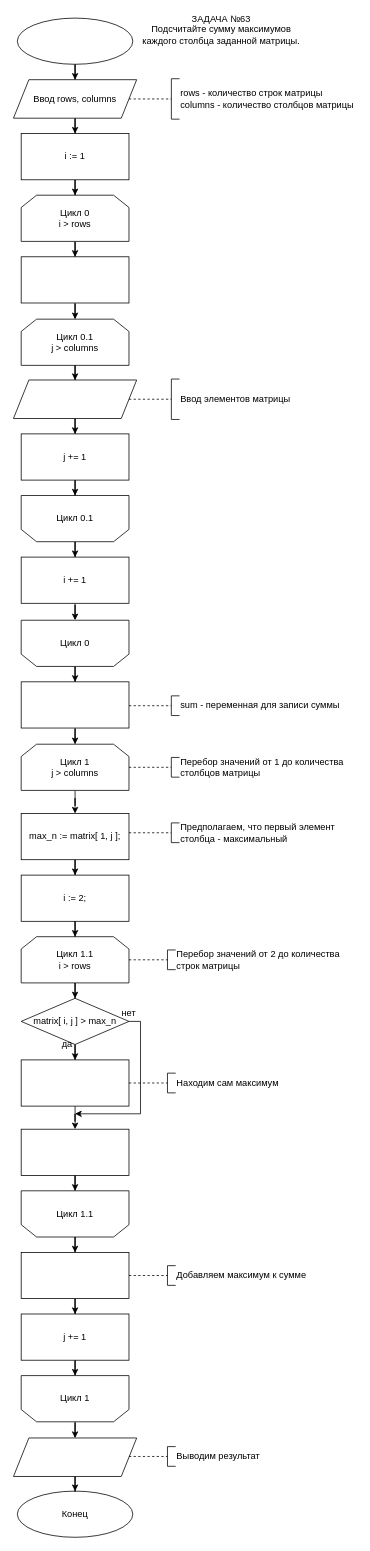
Some shapes in this 370 by 1551 pixel diagram are drawn without their labels. The centre of each missing label's shape, as x and y in pixels:
i += 1;: (x=74, y=1151)
j := 1: (x=74, y=279)
max_n := matrix[ i, j ]: (x=74, y=1082)
sum += max_n: (x=74, y=1275)
sum := 0; j := 1;: (x=74, y=704)
Ввод matrix[ i , j ]: (x=75, y=398)
Вывод sum: (x=75, y=1456)
Начало: (x=75, y=40)
